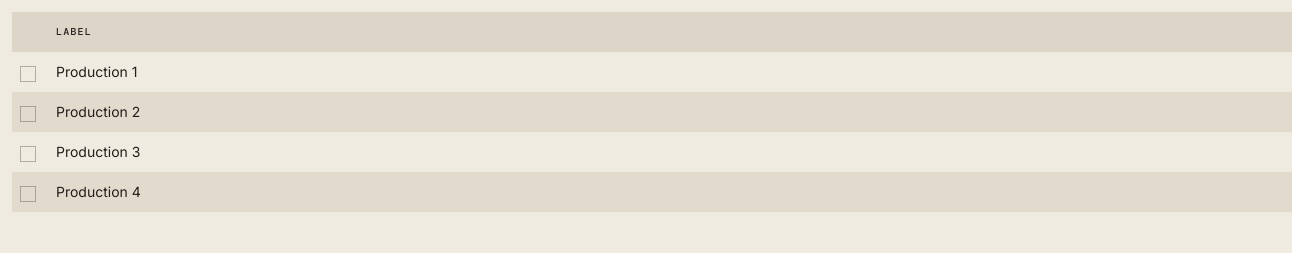
useParentChildSelection › deselects the ctrl-clicked row when multiple plain table rows are selected
What coordinates should you click on to do the following:
click the text "Production 1"
I would click on:
 (97, 72)
Its box is [44, 52, 1291, 92].
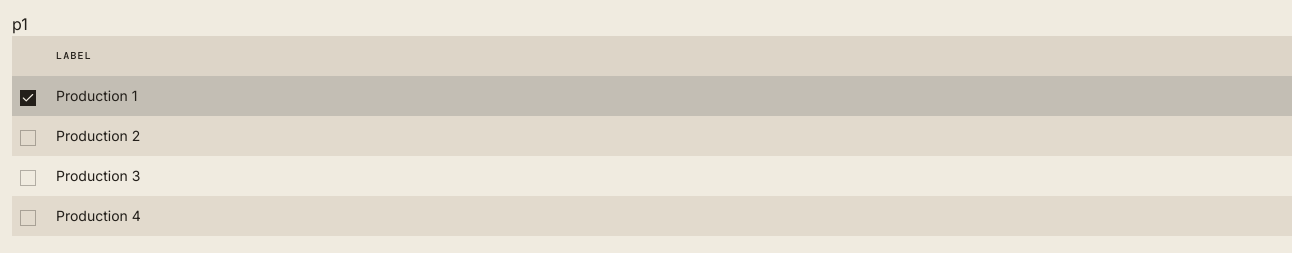
What coordinates should you click on to do the following:
click the text "Production 2"
I would click on:
 (98, 136)
Its box is [44, 116, 1291, 156].
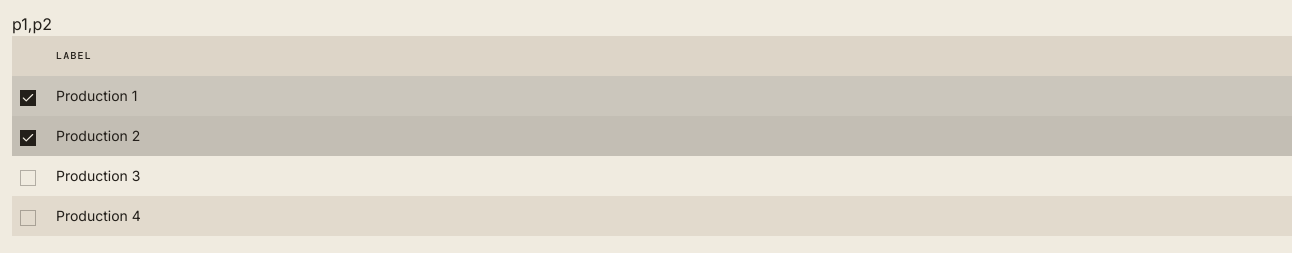
What coordinates should you click on to do the following:
click the text "Production 3"
I would click on:
 (98, 176)
Its box is [44, 156, 1291, 196].
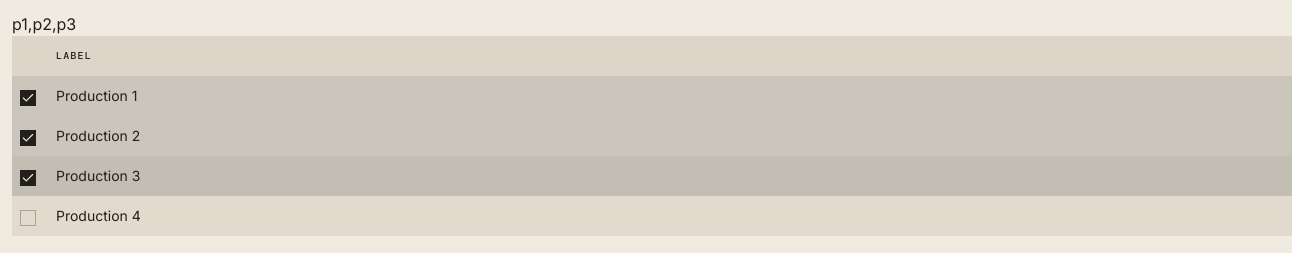
Expected: the text with test id "plain-selected" reads "p1,p2,p3", [12, 14, 76, 34]
What coordinates should you click on to do the following:
click the text "Production 2"
I would click on:
 (98, 136)
Its box is [44, 116, 1291, 156].
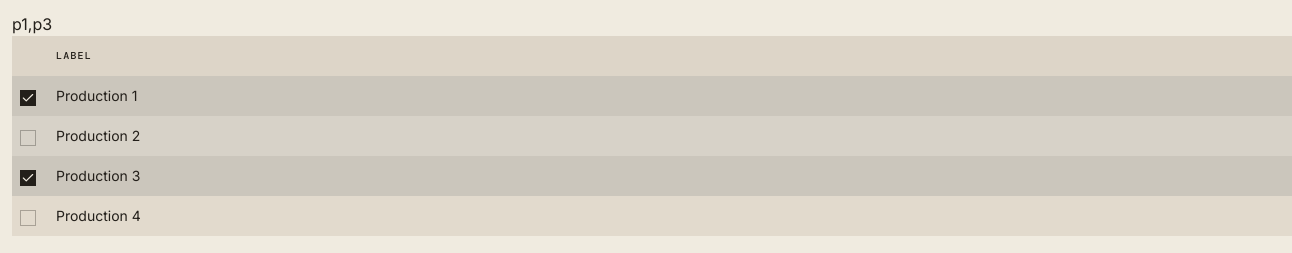
Expected: the text with test id "plain-selected" reads "p1,p3", [12, 14, 52, 34]
